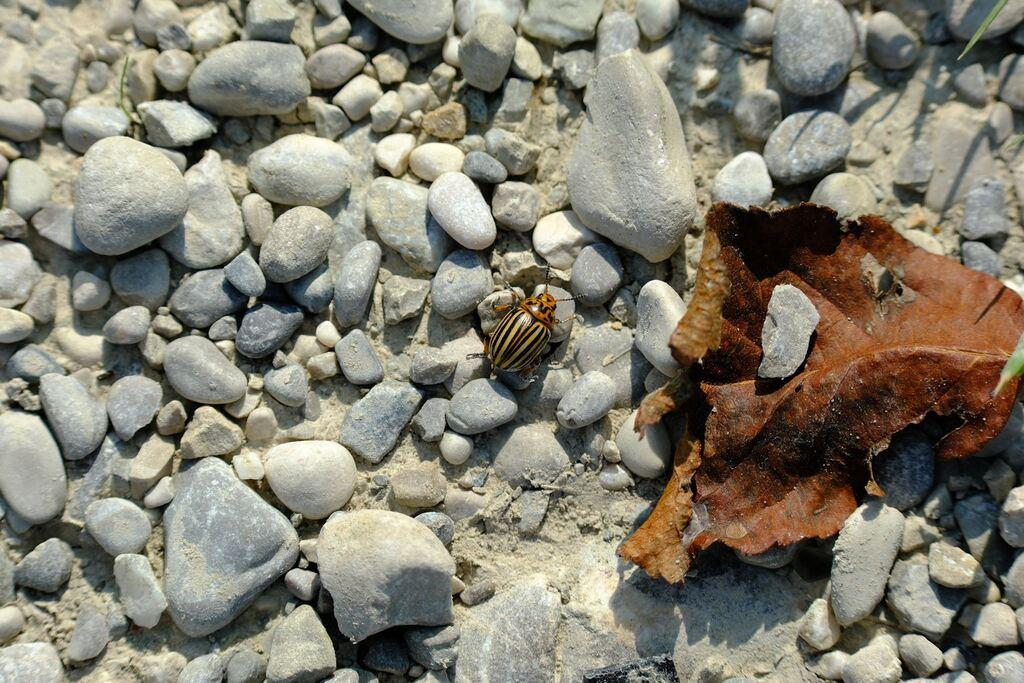potato_beetle: (443, 239, 617, 413)
